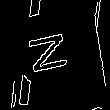N_E: (29, 29, 81, 81)
